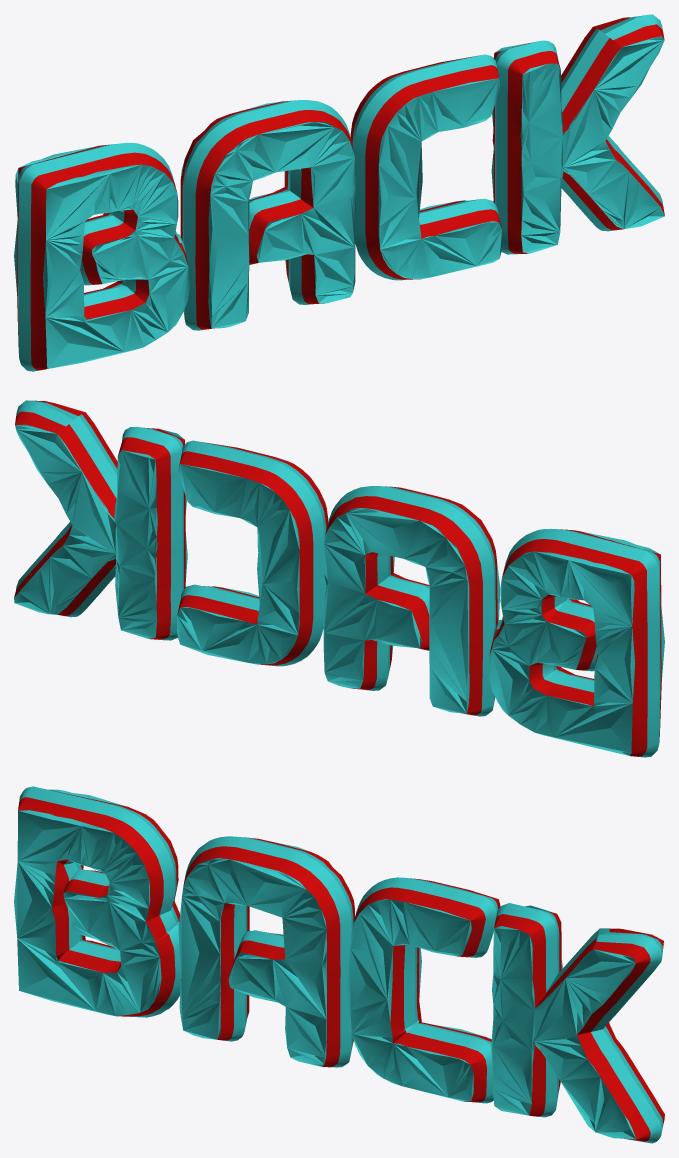
File: TextBack.fbx
3 renders of one model, top to bottom at view 1: azimuth 30°, elevation 25°; view 2: azimuth 150°, elevation 25°; view 3: azimuth 330°, elevation 25°, orthographic.
Parts seen in each view (by area): view 1: TextBack; view 2: TextBack; view 3: TextBack.
Boxes of the visible parts, x1=… form: TextBack: x1=14, y1=14, x2=664, y2=371; TextBack: x1=14, y1=400, x2=664, y2=757; TextBack: x1=14, y1=786, x2=664, y2=1143.
Size of the model in its own units: 2597 by 801 by 243.
